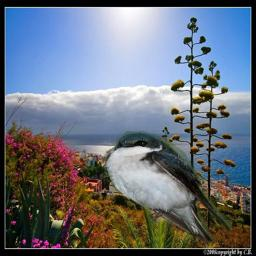Swallow: (102, 128, 232, 243)
